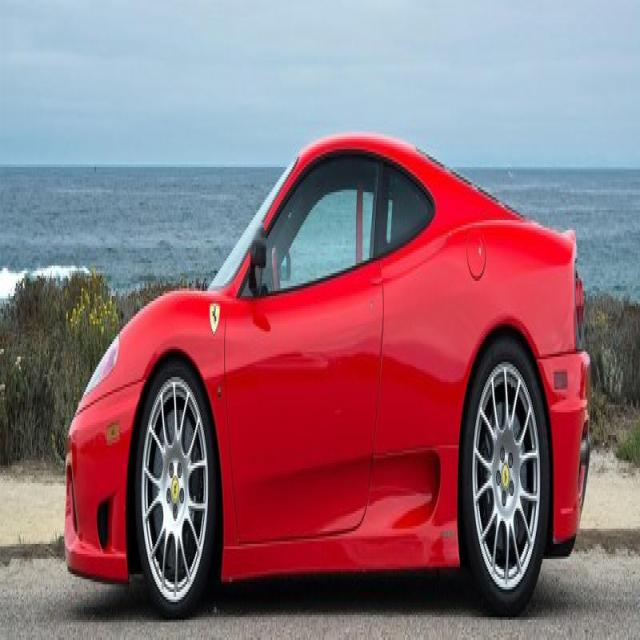car: (68, 141, 590, 619)
